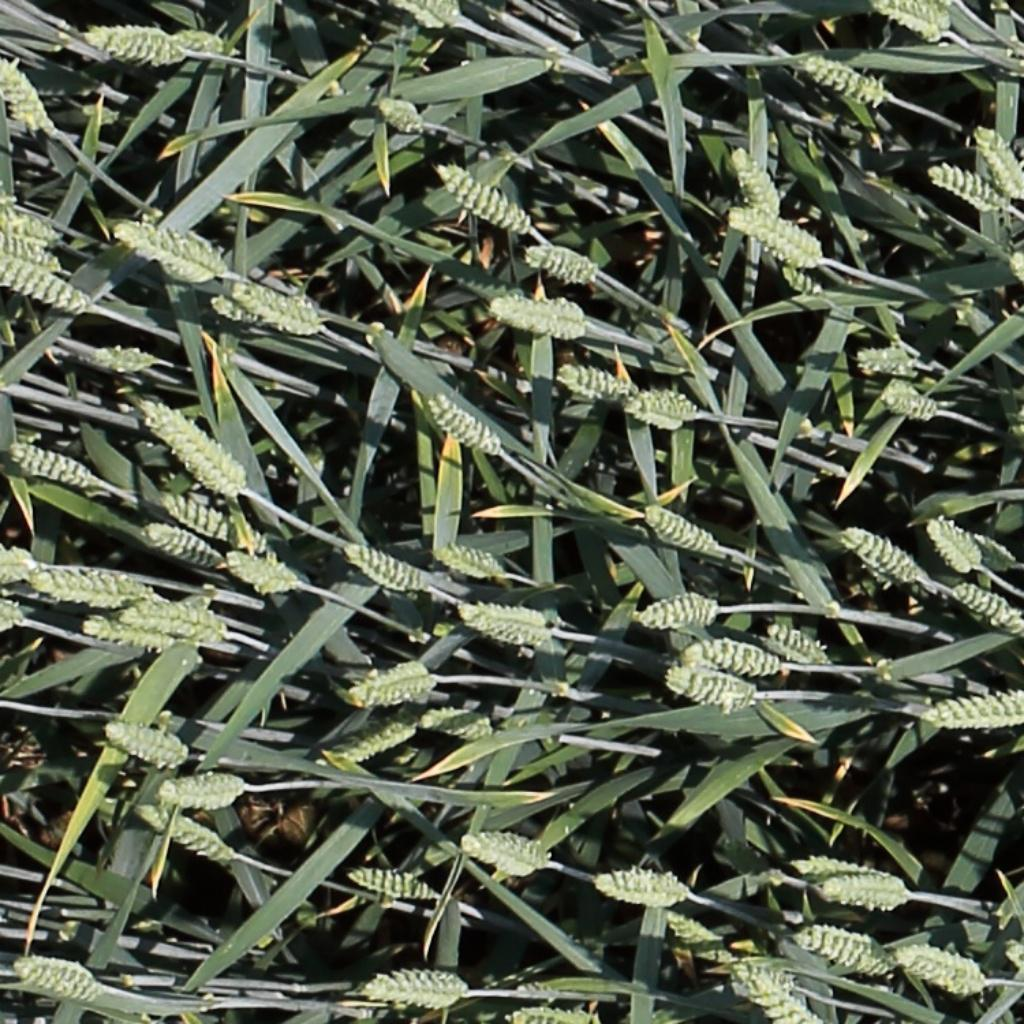0-0: (141, 398, 248, 494), (114, 221, 234, 290), (157, 492, 277, 559), (436, 157, 535, 238), (224, 271, 327, 340), (133, 796, 233, 864), (107, 600, 242, 648), (733, 962, 836, 1024), (78, 20, 189, 76), (355, 966, 473, 1016), (787, 919, 894, 974), (658, 664, 763, 720), (26, 564, 163, 606), (453, 600, 559, 654), (0, 28, 54, 132), (480, 293, 591, 343), (346, 658, 442, 715), (0, 256, 92, 315), (804, 55, 896, 113), (891, 943, 988, 998), (928, 163, 1018, 220), (923, 687, 1024, 737), (838, 524, 925, 582), (731, 208, 824, 262), (729, 137, 786, 223), (590, 867, 695, 913), (680, 637, 800, 677), (6, 442, 102, 491), (428, 393, 502, 456), (620, 384, 702, 439), (346, 543, 435, 592), (973, 118, 1024, 202), (555, 360, 638, 410), (813, 875, 912, 916), (637, 587, 722, 633), (953, 584, 1024, 637), (103, 722, 189, 765), (925, 514, 983, 577), (79, 613, 174, 651), (645, 506, 720, 554), (868, 0, 947, 45), (143, 522, 223, 566), (159, 773, 247, 813), (225, 552, 301, 598), (15, 958, 101, 998), (330, 724, 415, 764), (206, 292, 284, 333), (462, 836, 550, 871), (876, 380, 939, 428), (764, 622, 832, 666), (348, 869, 438, 902), (434, 544, 507, 580), (525, 244, 600, 279), (0, 198, 58, 241), (0, 229, 60, 270), (851, 347, 919, 378), (77, 347, 155, 374), (167, 28, 244, 55), (417, 714, 495, 738), (378, 94, 427, 131), (0, 543, 38, 588), (972, 533, 1017, 570), (780, 262, 826, 297), (666, 912, 716, 944), (402, 0, 453, 27), (0, 582, 23, 637), (938, 0, 966, 14)
